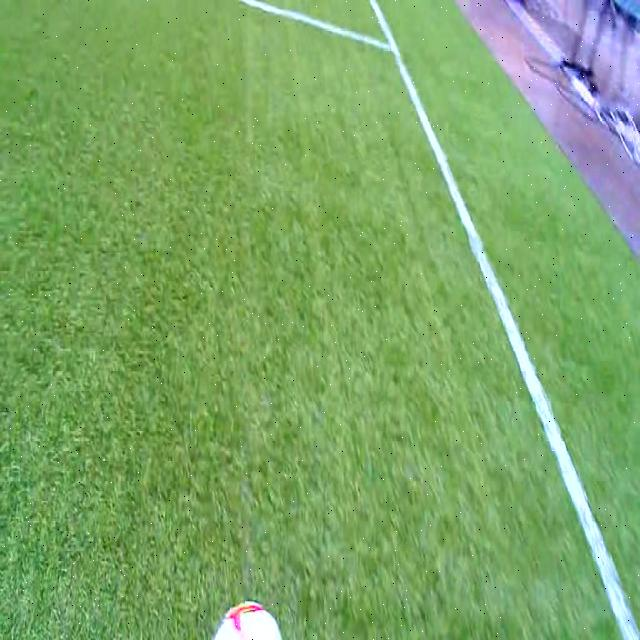ball: (214, 600, 282, 640)
